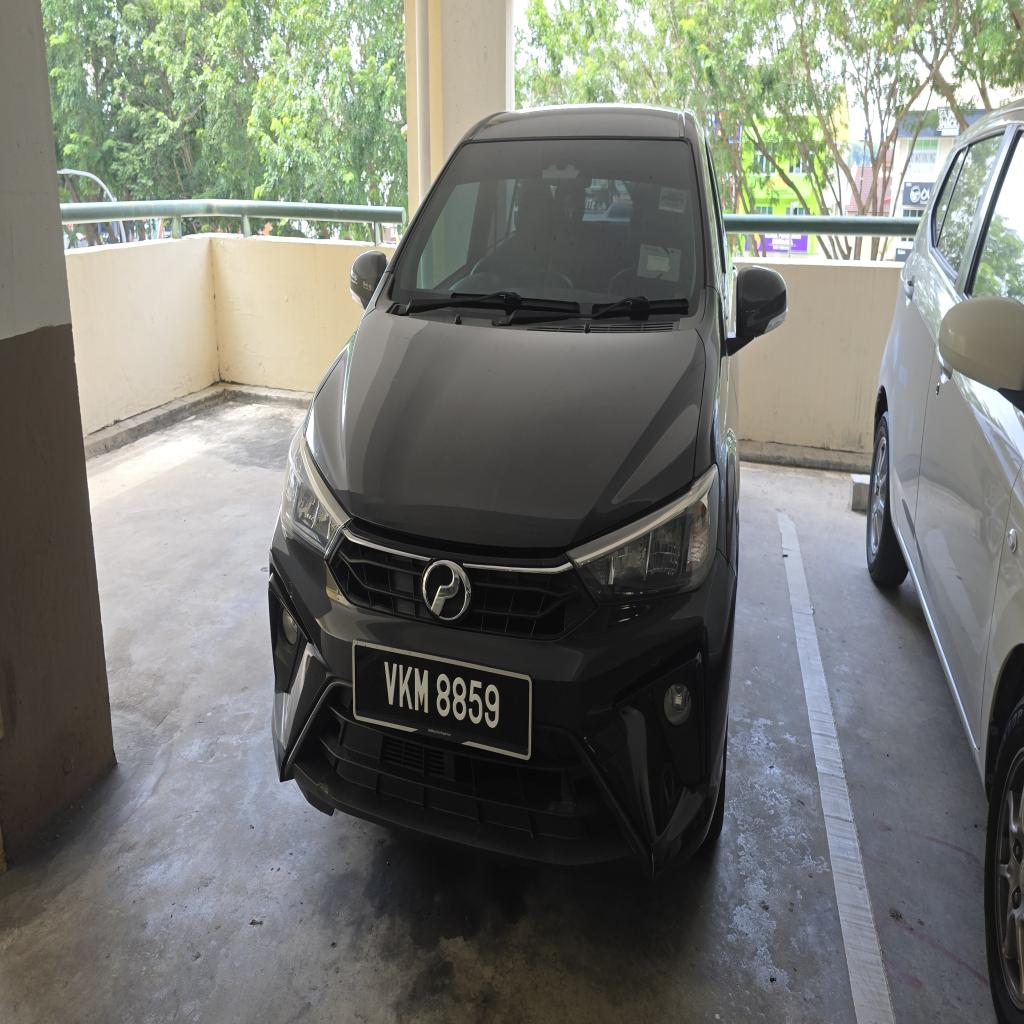car: (270, 106, 786, 873)
car plate: (353, 642, 531, 759)
